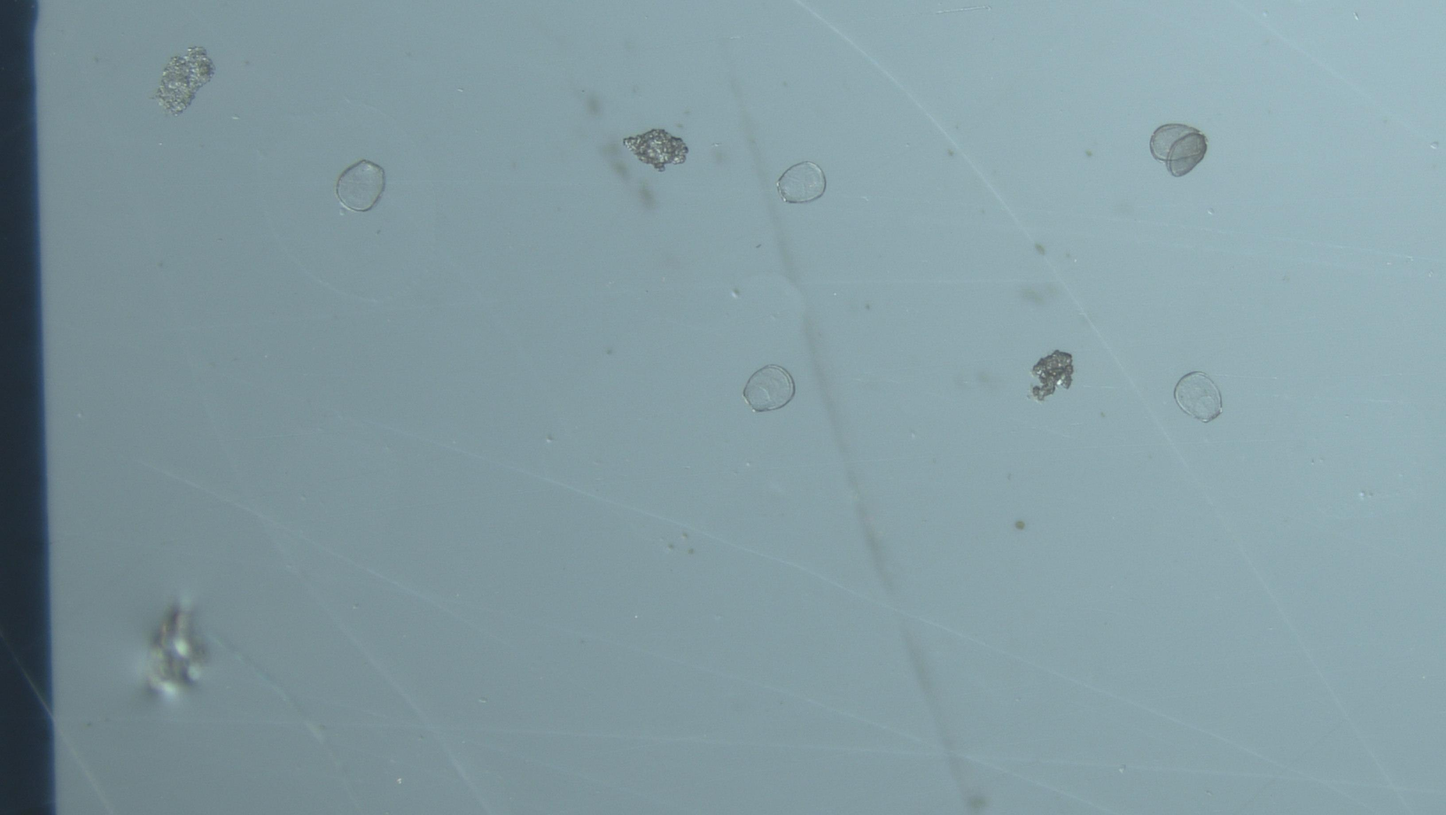dead: (1150, 123, 1207, 177), (336, 159, 385, 212), (1175, 372, 1223, 423), (743, 365, 795, 412), (777, 162, 826, 203)
